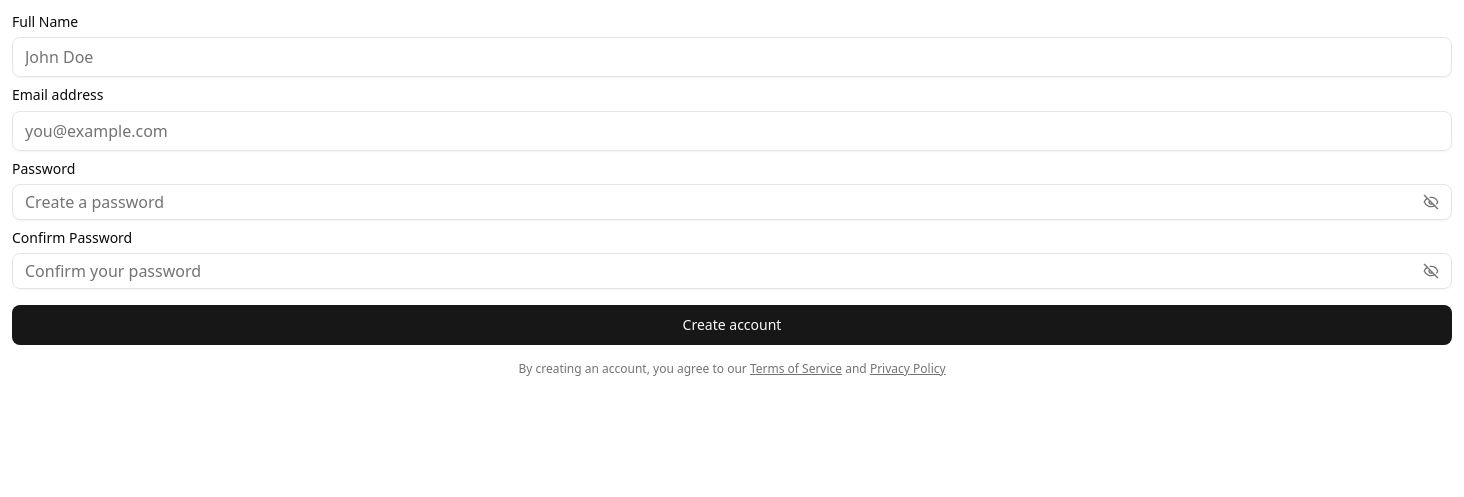
Test case: RegisterForm › shows validation error for short passwords
Type "123" into the password field labelled "Password" at (718, 202), box [13,182,1423,222]
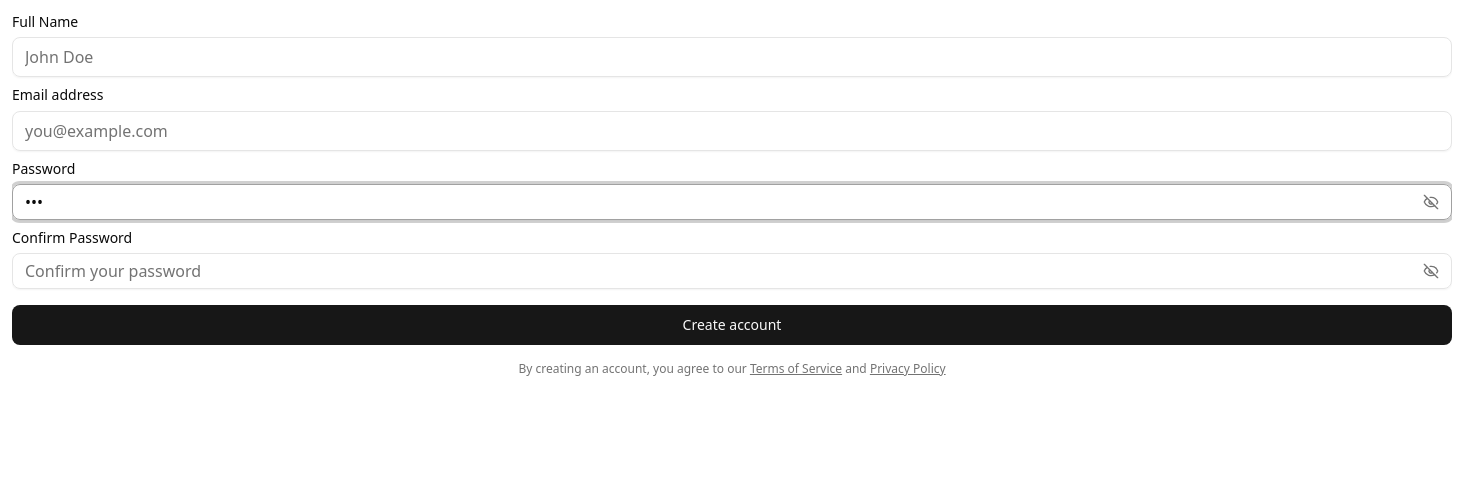
Type "12" into the password field labelled "Confirm Password" at (718, 271), box [13,251,1423,291]
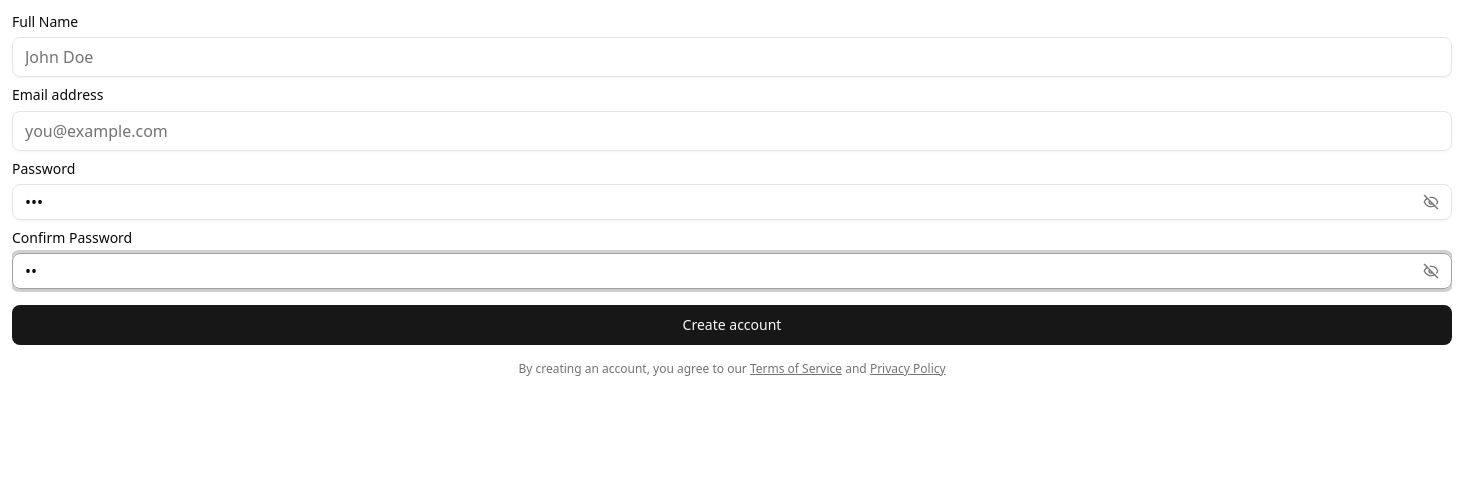
Click the button "Create account" at (732, 325), box [12,305,1452,345]
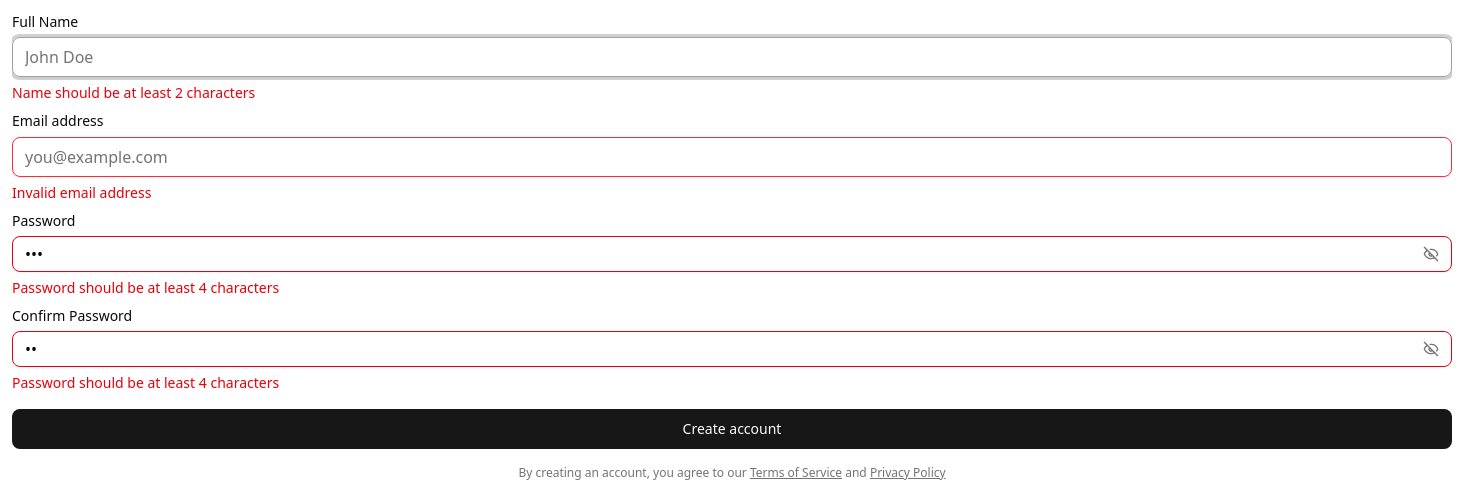
Check: the text "Password should be at least 4 characters" is shown 2 times, box [12,278,279,297]; [12,373,279,392]
